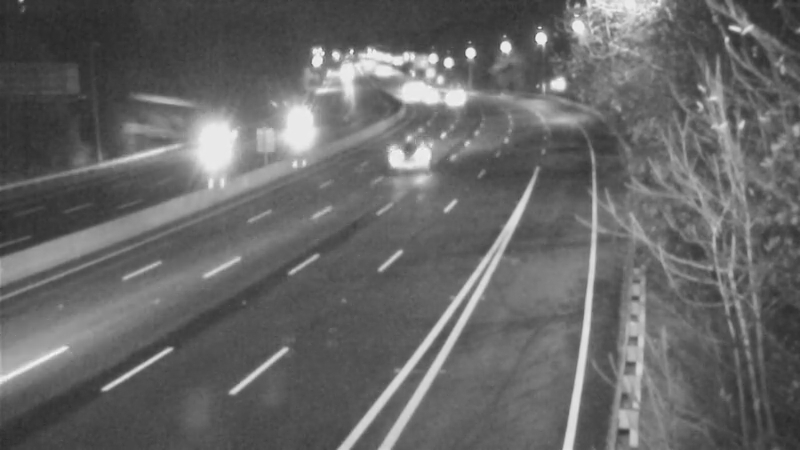vehicle: (372, 113, 452, 193), (385, 71, 435, 121), (430, 72, 480, 122), (183, 116, 233, 166), (265, 99, 315, 149)
